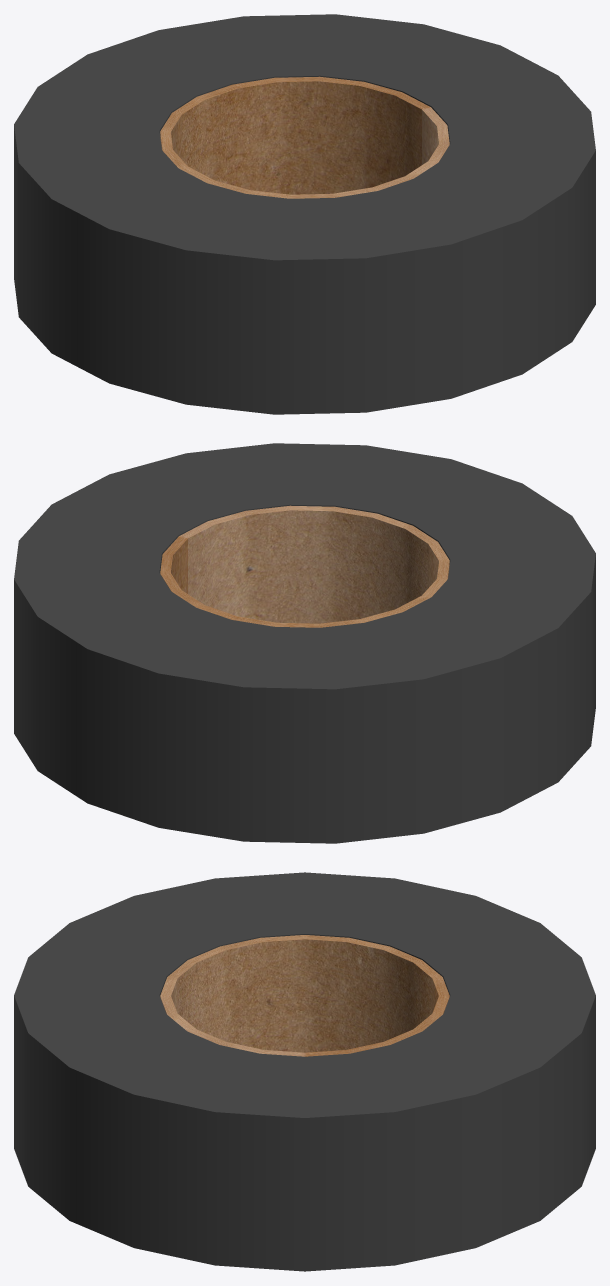
Rendered from tape.fbx.
3 renders of one model, top to bottom at view 1: azimuth 30°, elevation 25°; view 2: azimuth 150°, elevation 25°; view 3: azimuth 270°, elevation 25°, orthographic.
Visible parts, largest first — view 1: pPipe1, pasted__pPipe1; view 2: pPipe1, pasted__pPipe1; view 3: pPipe1, pasted__pPipe1.
Boxes of the visible parts, x1,y1,x2,y2 form: pPipe1: (14,14,595,414); pasted__pPipe1: (160,76,449,198); pPipe1: (14,443,595,843); pasted__pPipe1: (160,505,449,627); pPipe1: (14,872,595,1271); pasted__pPipe1: (160,935,449,1056).
Size of the model in its own units: 902 by 263 by 903.
